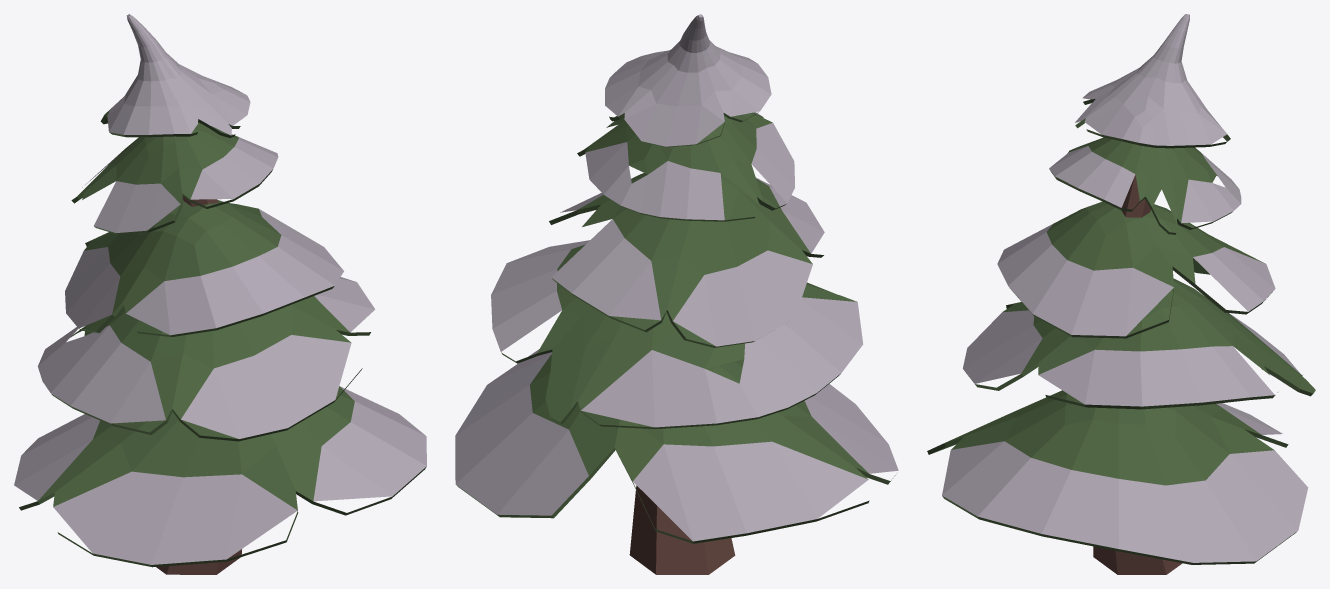
File: snow_pine_1.glb
The picture shows the model from 3 angles, left to right: view 1: azimuth 30°, elevation 25°; view 2: azimuth 150°, elevation 25°; view 3: azimuth 270°, elevation 25°; orthographic projection. The views are drawn at different scales.
Visible parts, largest first — view 1: PineTree_Snow_1_Cylinder.080; view 2: PineTree_Snow_1_Cylinder.080; view 3: PineTree_Snow_1_Cylinder.080.
Part boxes in pixels (<box>): PineTree_Snow_1_Cylinder.080: <box>14,14,426,574</box>; PineTree_Snow_1_Cylinder.080: <box>455,14,898,574</box>; PineTree_Snow_1_Cylinder.080: <box>927,14,1315,574</box>.
Size of the model in its own units: 1.96 by 2.7 by 1.82.
